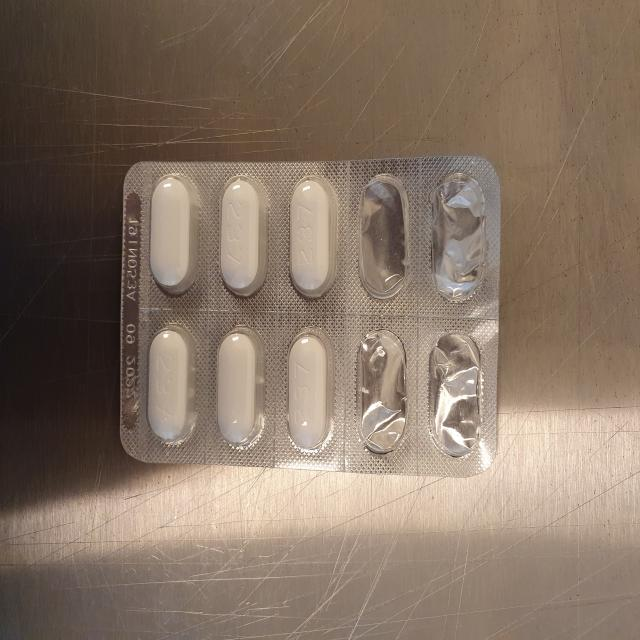Empty: (424, 168, 490, 308), (421, 329, 488, 463), (352, 172, 414, 302), (351, 326, 413, 453)
Pill: (280, 169, 342, 305), (142, 322, 202, 452), (281, 327, 338, 458), (144, 170, 200, 296), (212, 325, 266, 449), (216, 176, 266, 302)
